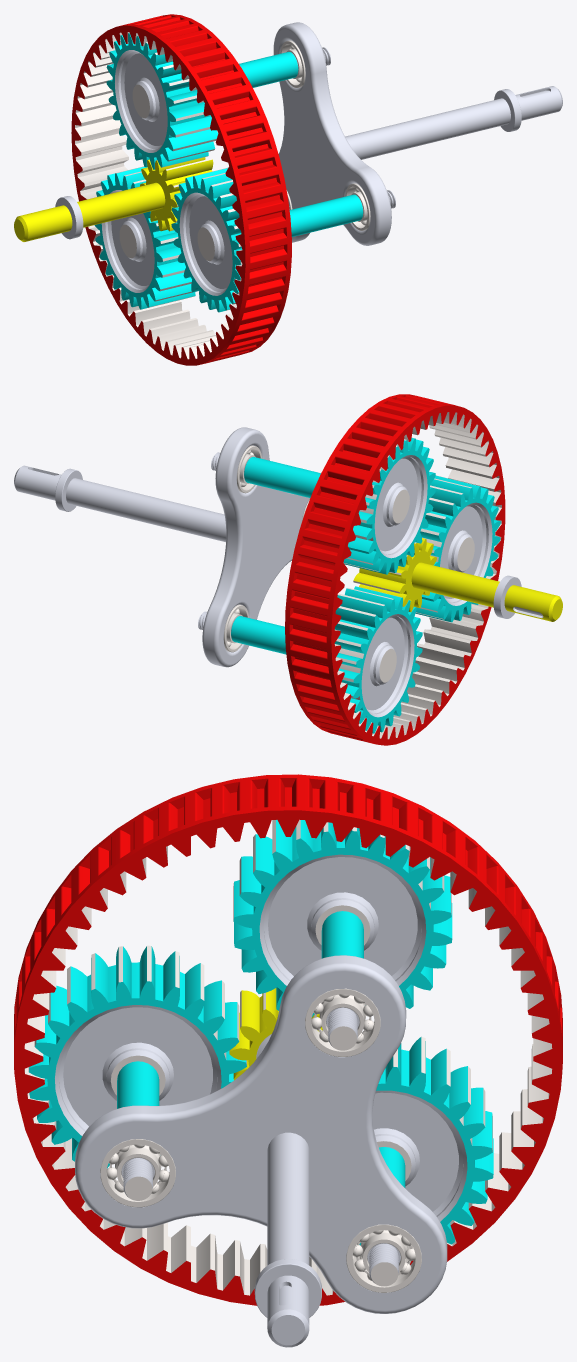
File: planetary gear ver 2.fbx
The picture shows the model from 3 angles, top to bottom: view 1: azimuth 30°, elevation 25°; view 2: azimuth 150°, elevation 25°; view 3: azimuth 270°, elevation 25°; orthographic projection. The views are drawn at different scales.
Parts seen in each view (by area): view 1: Ring gear, stick, planet gear main.001, planet gear main.002, planet gear main, sun gear, angular contact ball bearing_68_iso, angular contact ball bearing_68_iso.002; view 2: Ring gear, stick, planet gear main, planet gear main.001, planet gear main.002, sun gear, angular contact ball bearing_68_iso.001, angular contact ball bearing_68_iso; view 3: stick, Ring gear, planet gear main.001, planet gear main.002, planet gear main, angular contact ball bearing_68_iso, angular contact ball bearing_68_iso.001, angular contact ball bearing_68_iso.002, sun gear.
Part boxes in pixels (x1,y1,x2,y2): Ring gear: (71, 14, 291, 365); stick: (273, 22, 562, 245); planet gear main.001: (106, 33, 330, 169); planet gear main.002: (171, 167, 395, 312); planet gear main: (94, 166, 195, 309); sun gear: (14, 157, 213, 241); angular contact ball bearing_68_iso: (280, 40, 305, 87); angular contact ball bearing_68_iso.002: (345, 183, 370, 230); Ring gear: (285, 394, 505, 745); stick: (14, 427, 310, 667); planet gear main: (198, 586, 422, 733); planet gear main.001: (211, 437, 435, 574); planet gear main.002: (415, 475, 500, 622); sun gear: (353, 538, 562, 621); angular contact ball bearing_68_iso.001: (223, 604, 248, 652); angular contact ball bearing_68_iso: (237, 445, 261, 493); stick: (75, 955, 447, 1347); Ring gear: (14, 774, 562, 1305); planet gear main.001: (233, 819, 452, 1050); planet gear main.002: (28, 945, 246, 1200); planet gear main: (359, 1036, 493, 1286); angular contact ball bearing_68_iso: (305, 988, 380, 1056); angular contact ball bearing_68_iso.001: (346, 1224, 421, 1292); angular contact ball bearing_68_iso.002: (100, 1139, 175, 1207); sun gear: (229, 988, 322, 1080).
Bounding box in the file's own units: 11.6 × 6.5 × 6.5.
